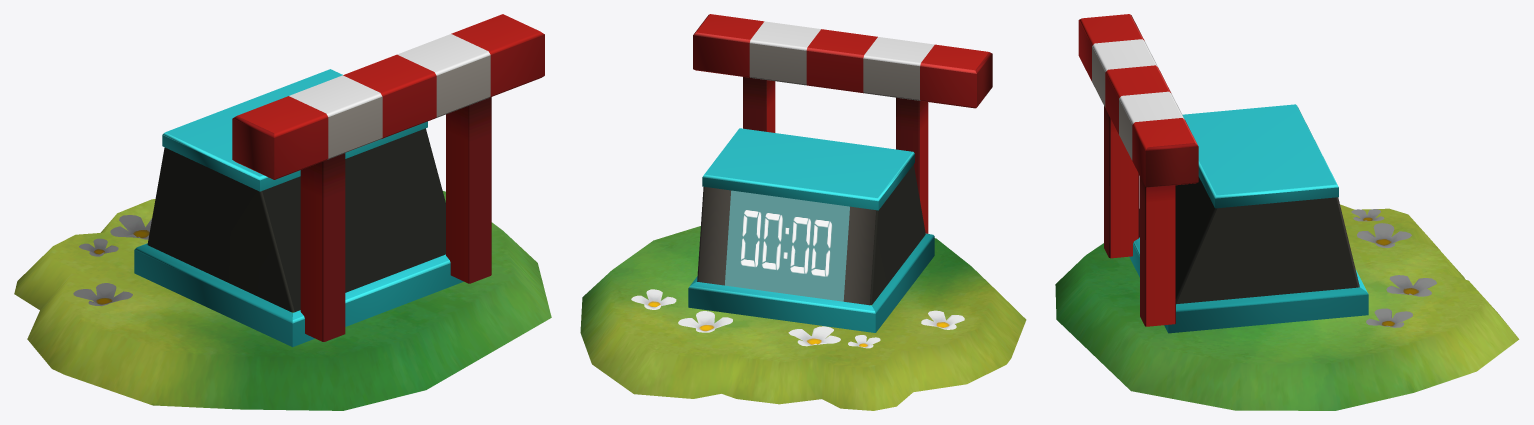
The model's file is FourCirclesOdysseyStatue.fbx.
3 renders of one model, left to right at view 1: azimuth 30°, elevation 25°; view 2: azimuth 150°, elevation 25°; view 3: azimuth 270°, elevation 25°, orthographic. The views are drawn at different scales.
Parts seen in each view (by area): view 1: fourCirclesGeo, fourCirclesGrass; view 2: fourCirclesGeo, fourCirclesGrass; view 3: fourCirclesGeo, fourCirclesGrass.
Part boxes in pixels (box(x1,y1,x2,y2)): fourCirclesGeo: box(73, 14, 544, 347); fourCirclesGrass: box(14, 191, 551, 410); fourCirclesGeo: box(631, 14, 992, 348); fourCirclesGrass: box(580, 226, 1026, 410); fourCirclesGeo: box(1078, 14, 1436, 333); fourCirclesGrass: box(1055, 204, 1519, 410).
Bounding box in the file's own units: 25.49 × 14.36 × 24.85.
